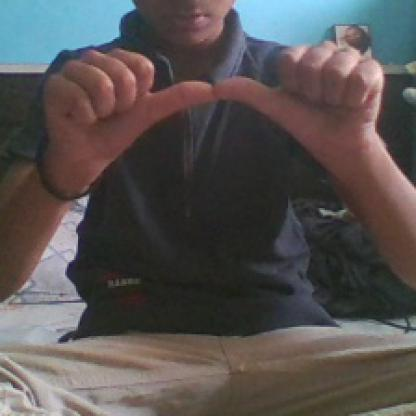A: (34, 32, 391, 160)
